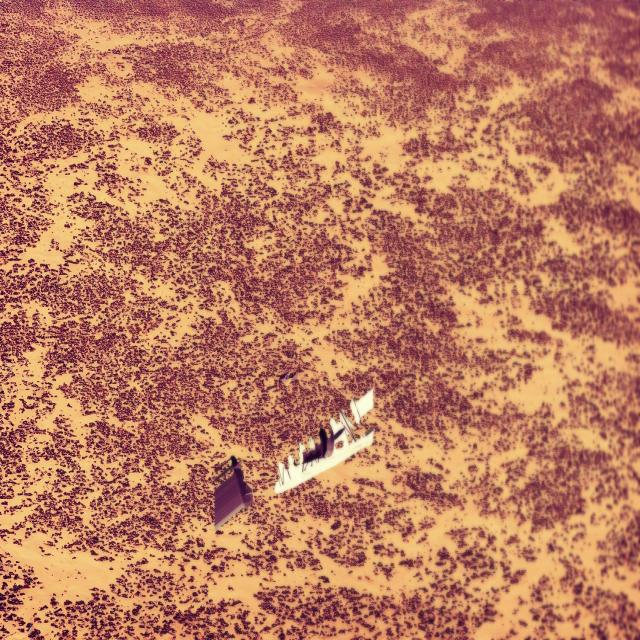airplane: (214, 387, 374, 524)
